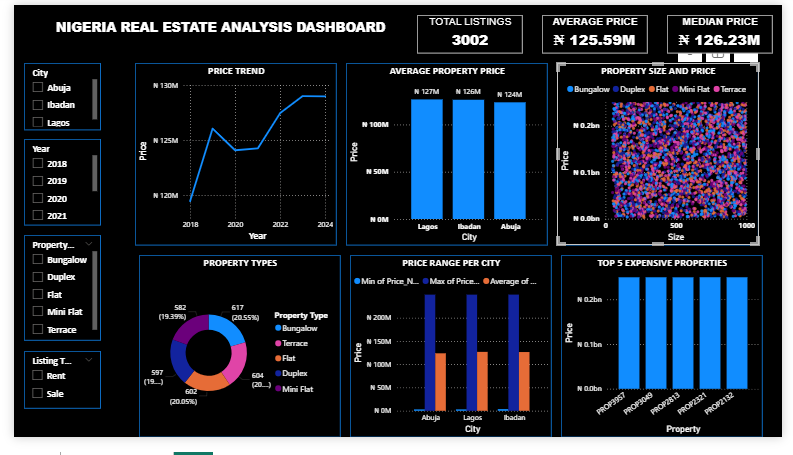

What the dashboard file says about the page in this screenshot:
{"tool":"powerbi","page":{"name":"DASHBOARD","canvas":[1280,720],"ordinal":0},"visuals":[{"type":"clusteredColumnChart","title":"AVERAGE PROPERTY PRICE","fields":{"Category":["Sheet3.City"],"Y":["Avg(Sheet3.Price_Naira)"]},"box":[553.7,96,336,304],"z":0},{"type":"donutChart","title":"PROPERTY TYPES","fields":{"Category":["Sheet3.Property_Type"],"Y":["CountNonNull(Sheet3.Listing_Type)"]},"box":[208,416,336,288],"z":1000},{"type":"lineChart","title":"PRICE TREND","fields":{"Category":["Sheet3.Year_Listed"],"Y":["Avg(Sheet3.Price_Naira)"]},"box":[201.7,96,336,304],"z":2000},{"type":"scatterChart","title":"PROPERTY SIZE AND PRICE","fields":{"X":["Sheet3.Size_sqm"],"Y":["Sheet3.Price_Naira"],"Size":["CountNonNull(Sheet3.Size_sqm)"],"Series":["Sheet3.Property_Type"]},"box":[905.7,96,336,304],"z":3000},{"type":"lineStackedColumnComboChart","title":"TOP 5 EXPENSIVE PROPERTIES","fields":{"Category":["Sheet3.Property_ID","Sheet3.City"],"Y":["Max(Sheet3.Price_Naira)"]},"box":[912,416,336,288],"z":4000},{"type":"clusteredColumnChart","title":"PRICE RANGE PER CITY","fields":{"Category":["Sheet3.City"],"Y":["Min(Sheet3.Price_Naira)","Max(Sheet3.Price_Naira)","Avg(Sheet3.Price_Naira)"]},"box":[560,416,336,288],"z":5000},{"type":"card","title":"TOTAL LISTINGS","fields":{"Values":["CountNonNull(Sheet3.Listing_Type)"]},"box":[672,16,176,64],"z":6000},{"type":"card","title":"AVERAGE PRICE","fields":{"Values":["Avg(Sheet3.Price_Naira)"]},"box":[880,16,176,64],"z":7000},{"type":"card","title":"MEDIAN PRICE","fields":{"Values":["Median(Sheet3.Price_Naira)"]},"box":[1088,16,176,64],"z":8000},{"type":"slicer","fields":{"Values":["Sheet3.City"]},"box":[36.7,98.7,128,112],"z":9000},{"type":"slicer","fields":{"Values":["Sheet3.Property_Type"]},"box":[36.7,386.7,128,176],"z":10000},{"type":"textbox","box":[48,16,592,64],"z":12000},{"type":"slicer","fields":{"Values":["Sheet3.Listing_Type"]},"box":[36.7,578.7,128,96],"z":13000},{"type":"slicer","fields":{"Values":["Sheet3.Year_Listed"]},"box":[36.7,226.7,128,144],"z":14000}]}

Visuals, with their boxes in screenshot pixels (x1, y1, x2, y2), scaled from the page's 1280x720 canvas onto the 793x455 screenshot:
"AVERAGE PROPERTY PRICE" clusteredColumnChart: box=[343, 61, 551, 253]
"PROPERTY TYPES" donutChart: box=[129, 263, 337, 445]
"PRICE TREND" lineChart: box=[125, 61, 333, 253]
"PROPERTY SIZE AND PRICE" scatterChart: box=[561, 61, 769, 253]
"TOP 5 EXPENSIVE PROPERTIES" lineStackedColumnComboChart: box=[565, 263, 773, 445]
"PRICE RANGE PER CITY" clusteredColumnChart: box=[347, 263, 555, 445]
"TOTAL LISTINGS" card: box=[416, 10, 525, 51]
"AVERAGE PRICE" card: box=[545, 10, 654, 51]
"MEDIAN PRICE" card: box=[674, 10, 783, 51]
slicer - Sheet3.City: box=[23, 62, 102, 133]
slicer - Sheet3.Property_Type: box=[23, 244, 102, 356]
textbox: box=[30, 10, 396, 51]
slicer - Sheet3.Listing_Type: box=[23, 366, 102, 426]
slicer - Sheet3.Year_Listed: box=[23, 143, 102, 234]
